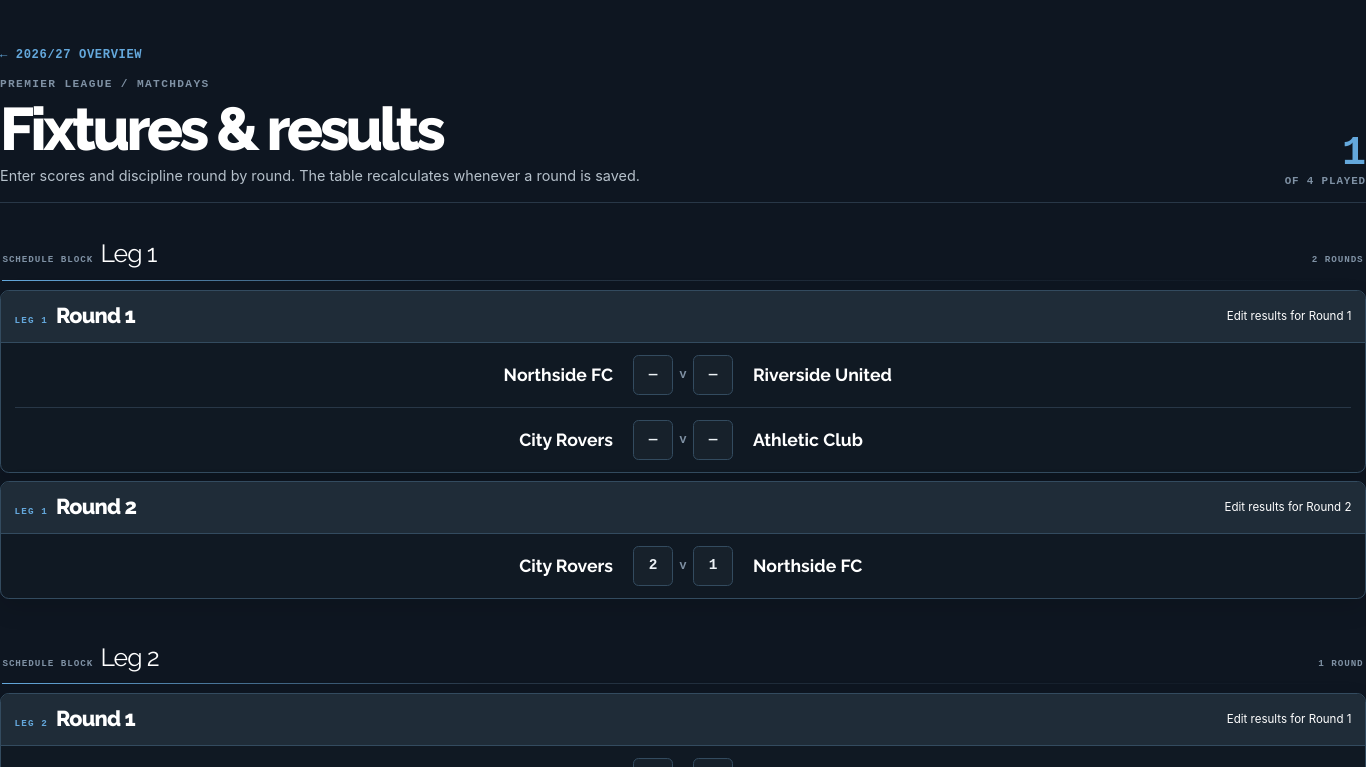
Test: season fixtures view › rejects invalid non-negative-integer values atomically
Click the button "Edit results for Round 1" below "2 rounds": x=1289, y=316 [1227,298,1351,334]
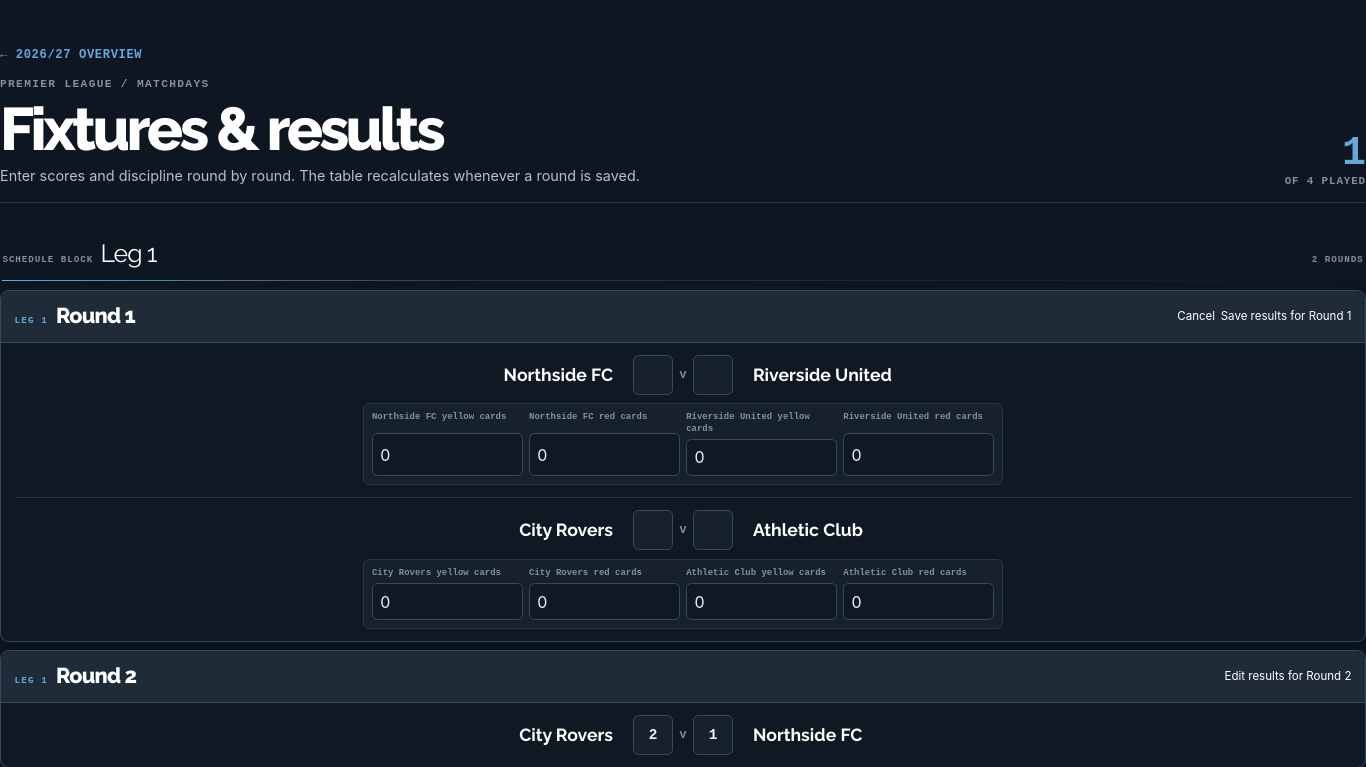
In the 1st number field named "Northside FC score": x=653, y=375 [633,355,673,395], type "-1"
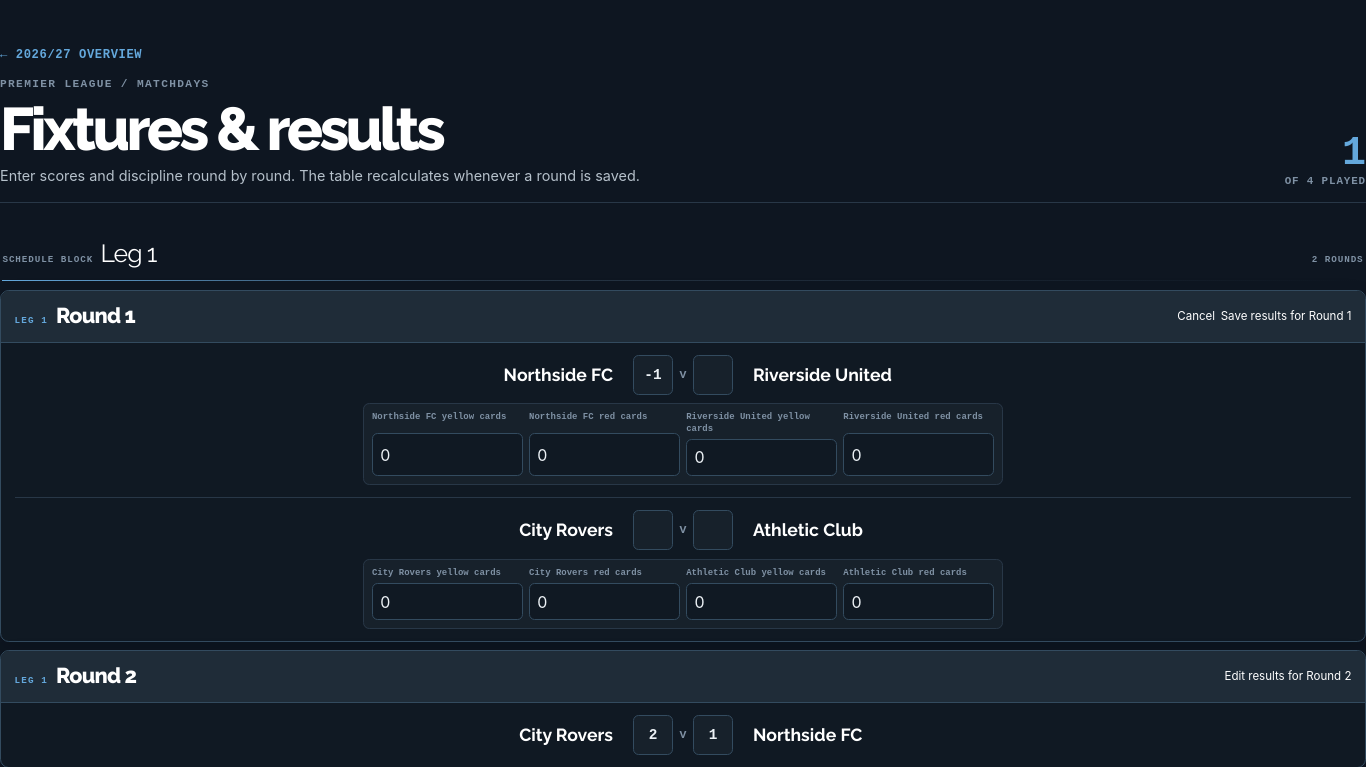
In the 2nd number field named "Riverside United score": x=713, y=375 [693,355,733,395], type "4"
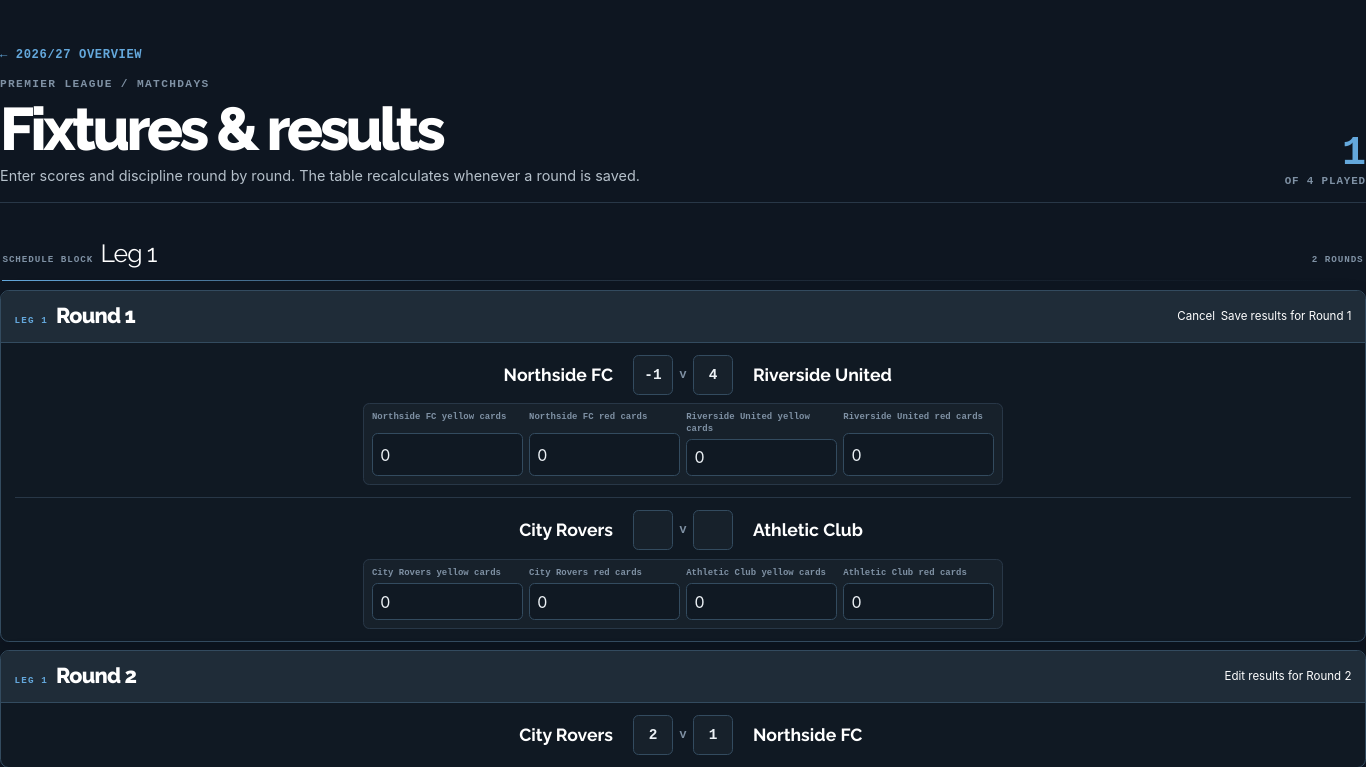
Click the button "Save results for Round 1": x=1286, y=316 [1221,298,1351,334]
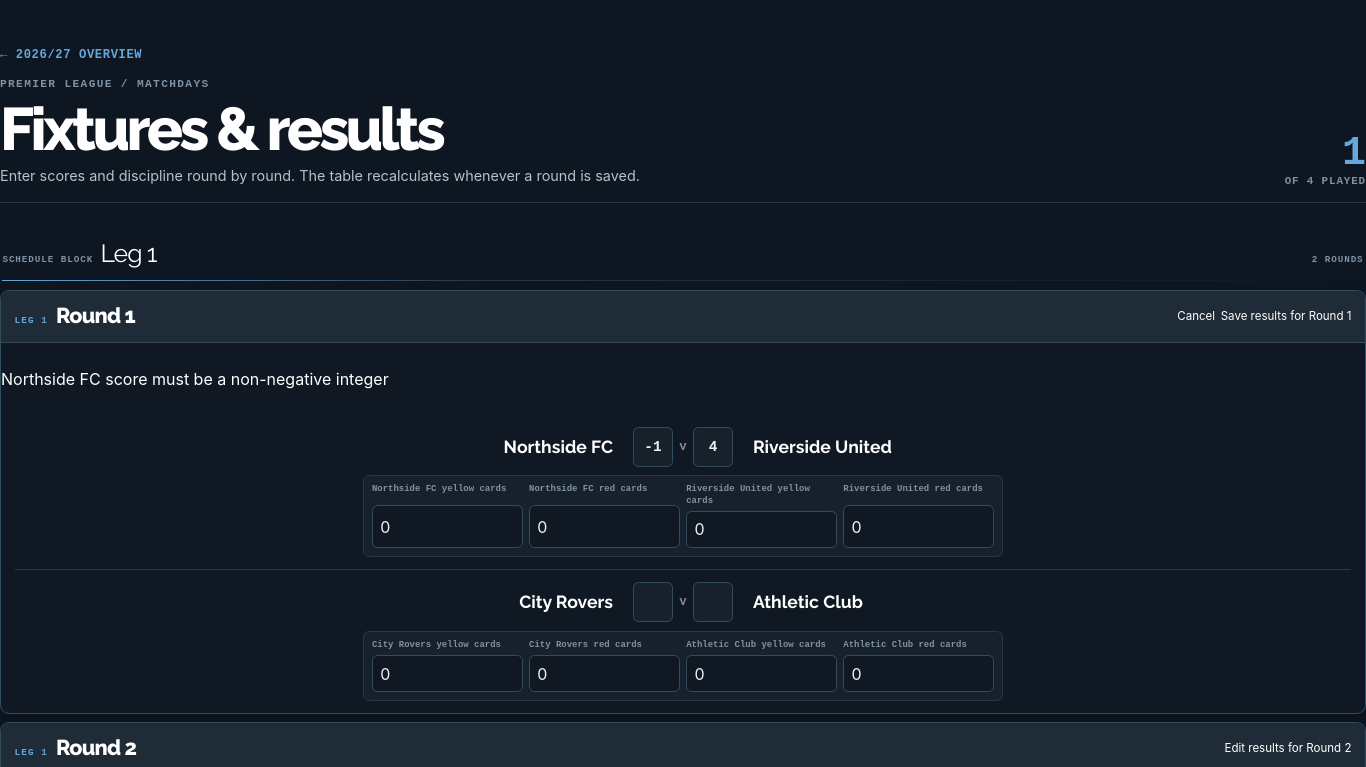
Now the message reads "Northside FC score must be a non-negative integer", box [1,369,389,389]
